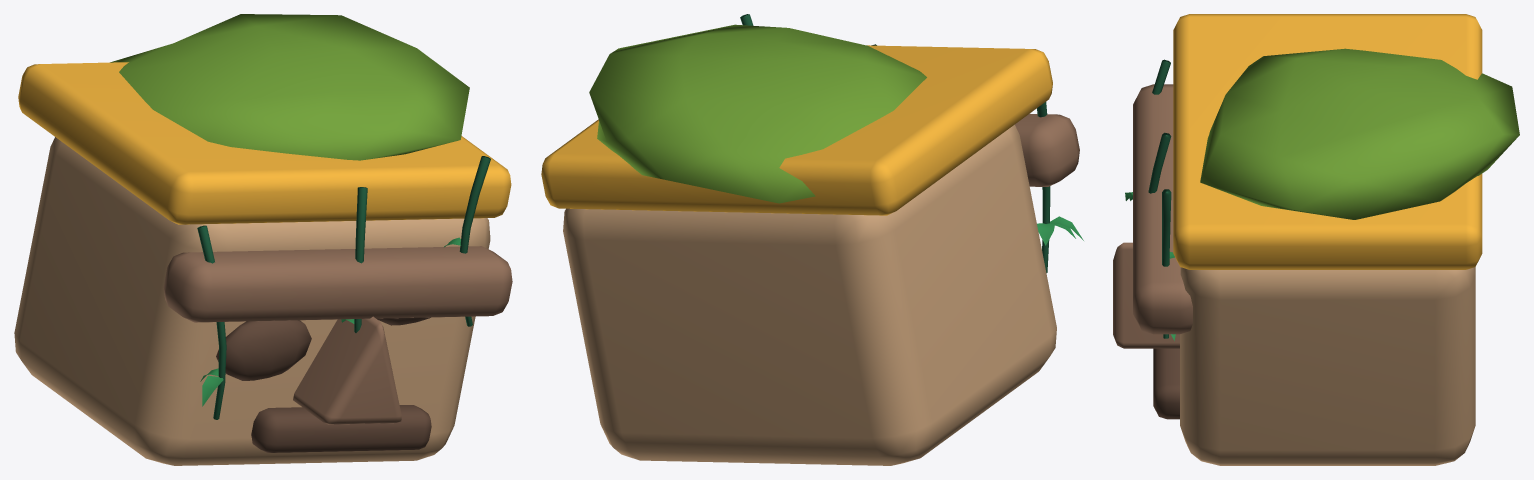
The model's file is jungle_idol_head.glb.
3 renders of one model, left to right at view 1: azimuth 30°, elevation 25°; view 2: azimuth 150°, elevation 25°; view 3: azimuth 270°, elevation 25°, orthographic. The views are drawn at different scales.
Parts seen in each view (by area): view 1: IdolHead; view 2: IdolHead; view 3: IdolHead.
Boxes of the visible parts, left/top/right/bottom form: IdolHead: left=14, top=14, right=512, bottom=465; IdolHead: left=541, top=14, right=1083, bottom=465; IdolHead: left=1113, top=14, right=1519, bottom=465.
Bounding box in the file's own units: 3.04 × 2.83 × 3.03.
